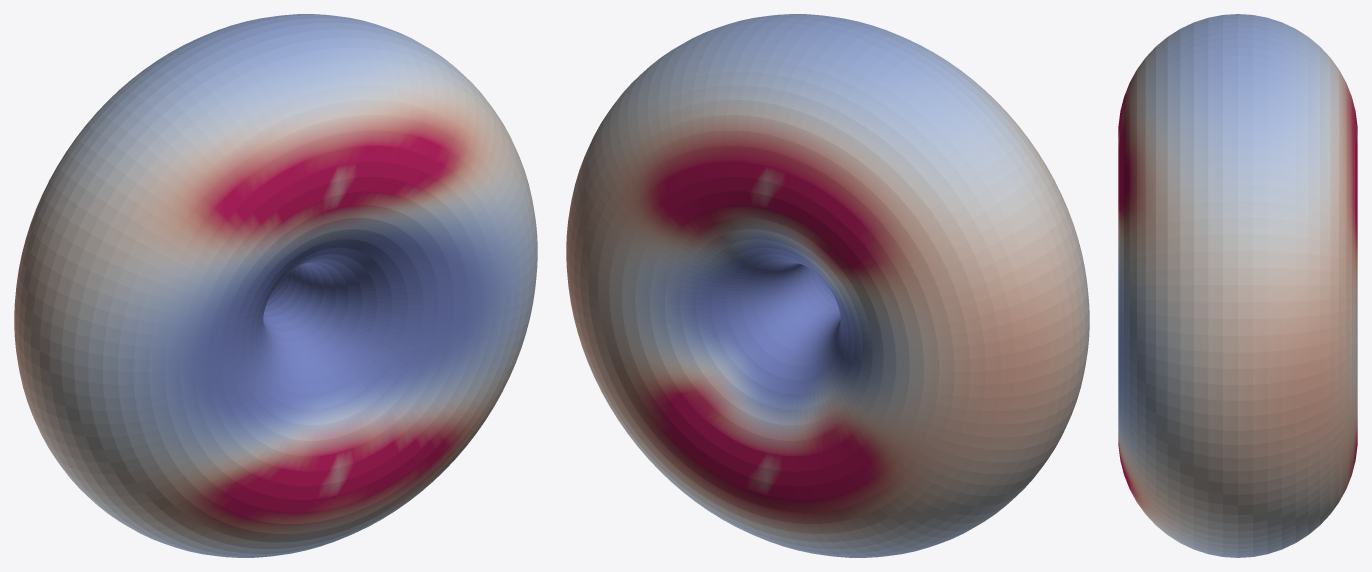
The picture shows the model from 3 angles, left to right: view 1: azimuth 30°, elevation 25°; view 2: azimuth 150°, elevation 25°; view 3: azimuth 270°, elevation 25°; orthographic projection. The views are drawn at different scales.
Parts seen in each view (by area): view 1: world; view 2: world; view 3: world.
Part boxes in pixels (<box>): world: <box>14,14,537,557</box>; world: <box>566,14,1089,557</box>; world: <box>1118,14,1357,557</box>.
Bounding box in the file's own units: 17.87 × 17.87 × 7.85.
